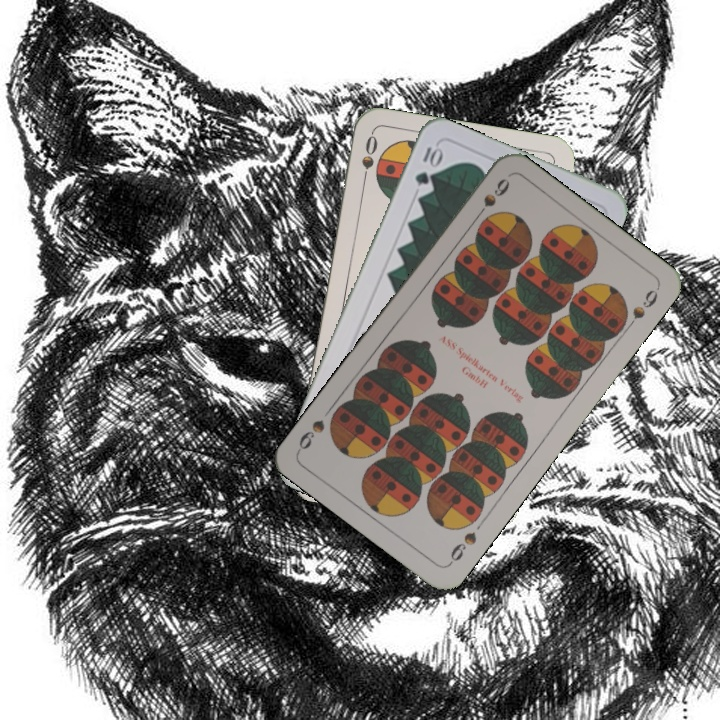G10: (410, 141, 444, 189)
S9: (470, 174, 513, 227), (444, 527, 480, 568)
SO: (357, 131, 380, 190)
